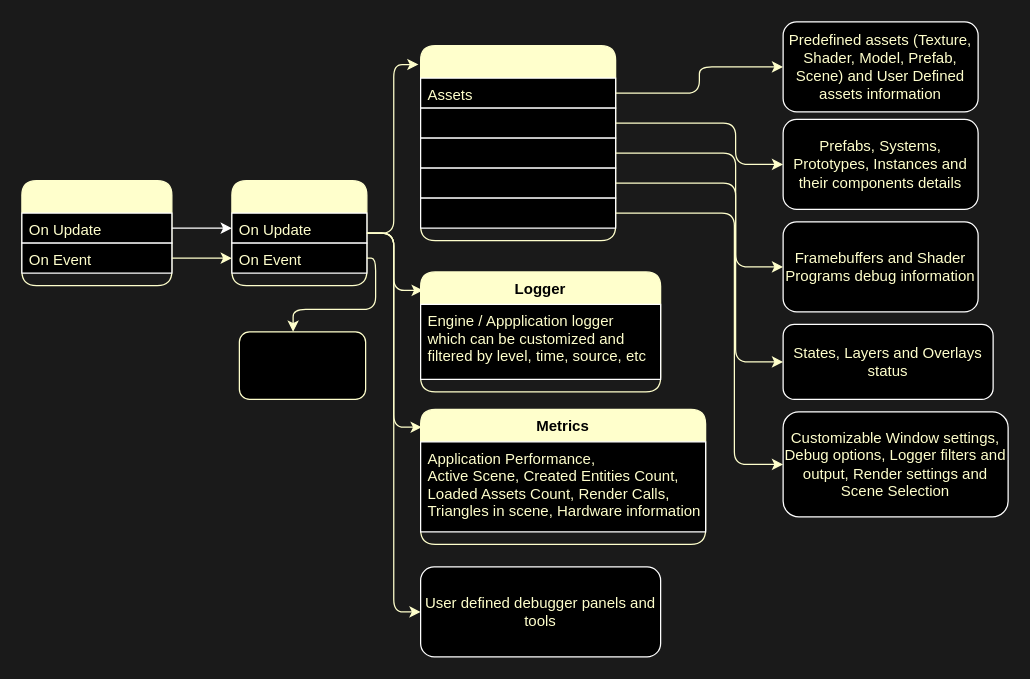
Image size: 1030x679. Some labels were removed from this diagram. The shapes that lost their labels are listed below. From the top down, each one's box as (x1, y1, x2, y2) in pixels, then its label:
(419, 107, 616, 138): Scene
(419, 44, 616, 241): Inspector
(419, 137, 616, 168): Render
(419, 167, 616, 198): States
(21, 179, 172, 286): Application
(231, 179, 367, 286): Debugger
(419, 197, 616, 228): Settings
(238, 331, 366, 399): Keys and Mouse Callbacks
